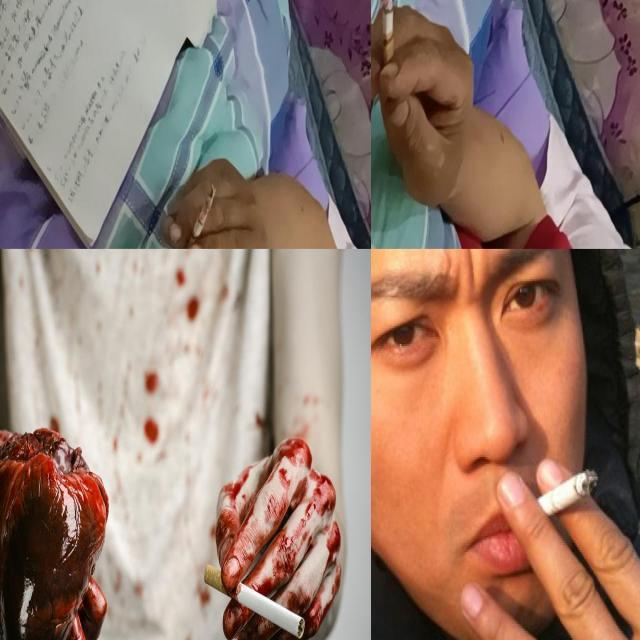cigarette: (204, 561, 307, 639), (526, 464, 600, 518), (181, 185, 215, 248), (380, 0, 396, 83)
